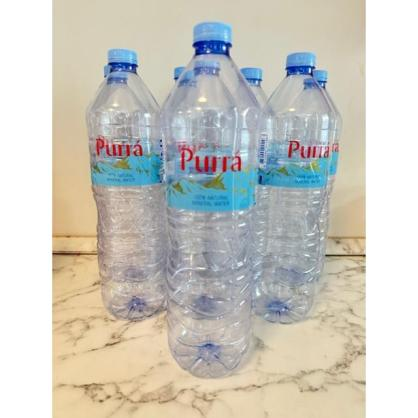bottle: (168, 20, 256, 379), (257, 46, 336, 330), (86, 47, 167, 321)
cap: (192, 22, 233, 49), (286, 51, 316, 70), (108, 48, 139, 64), (240, 66, 264, 81)
label: (163, 129, 258, 207), (260, 116, 333, 188), (88, 125, 163, 189)
